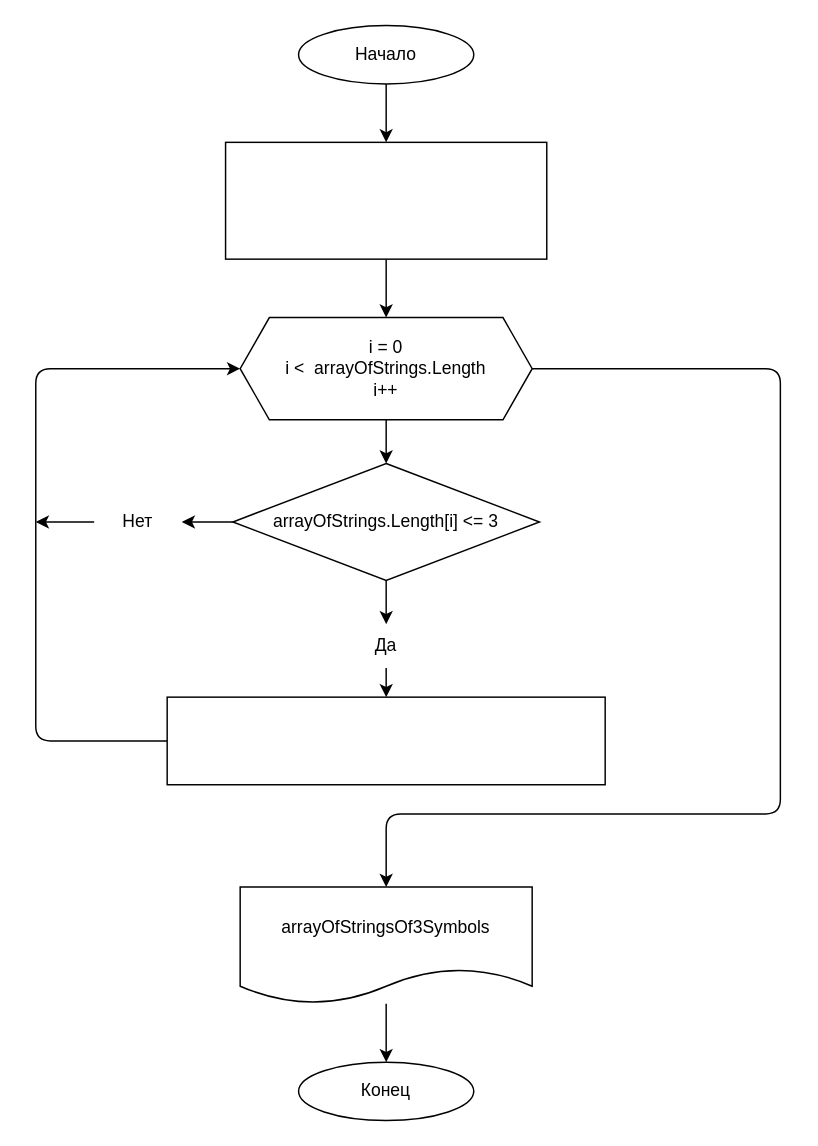
Image size: 818x1146. Some labels were removed from this diagram. Each missing label, with the centre of its shape:
"arrayOfStrings length arrayOfStringsOf3Symbols j = 0" belongs at point (385, 200).
"arrayOfStringsOf3Symbols[j] = arrayOfStrings[i] j++" belongs at point (385, 740).
